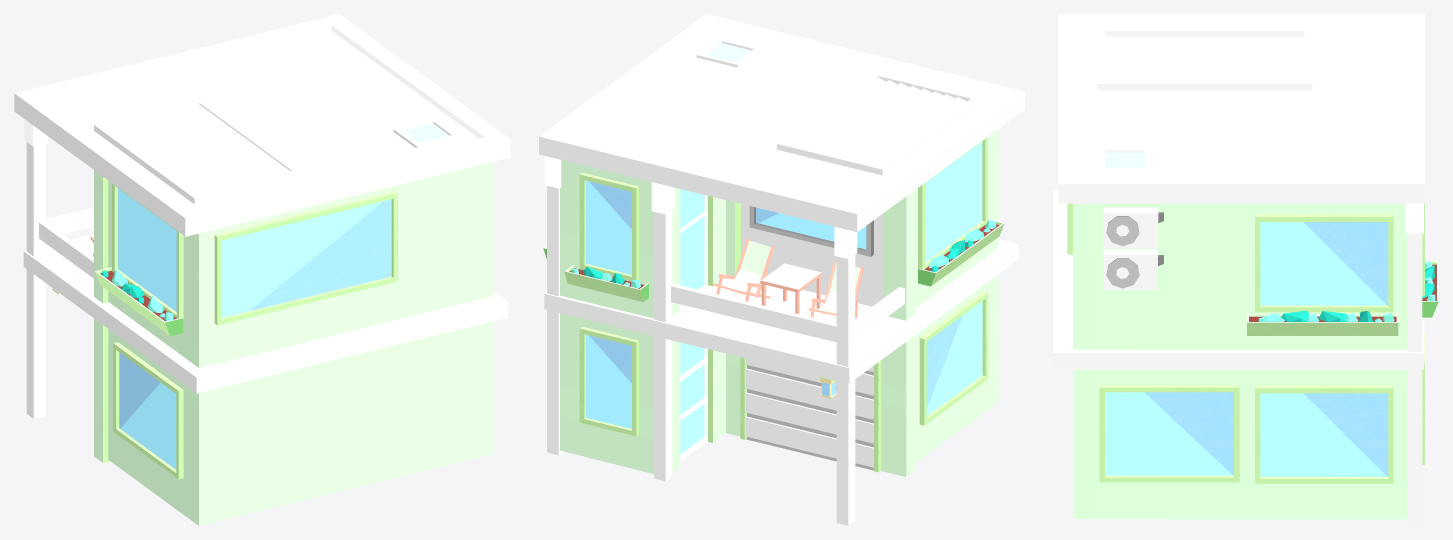
Rendered from dwelling modern.008.glb.
3 views of the same model, side by side, from view 1: azimuth 30°, elevation 25°; view 2: azimuth 150°, elevation 25°; view 3: azimuth 270°, elevation 25° (orthographic). The views are drawn at different scales.
Parts seen in each view (by area): view 1: dwelling modern.008(Clone); view 2: dwelling modern.008(Clone); view 3: dwelling modern.008(Clone).
Part boxes in pixels (<box>): dwelling modern.008(Clone): <box>14,14,510,525</box>; dwelling modern.008(Clone): <box>539,14,1024,525</box>; dwelling modern.008(Clone): <box>1053,14,1438,525</box>.
Size of the model in its own units: 6.68 by 6.17 by 6.23.
Materials: 1 (1 with a texture image).
